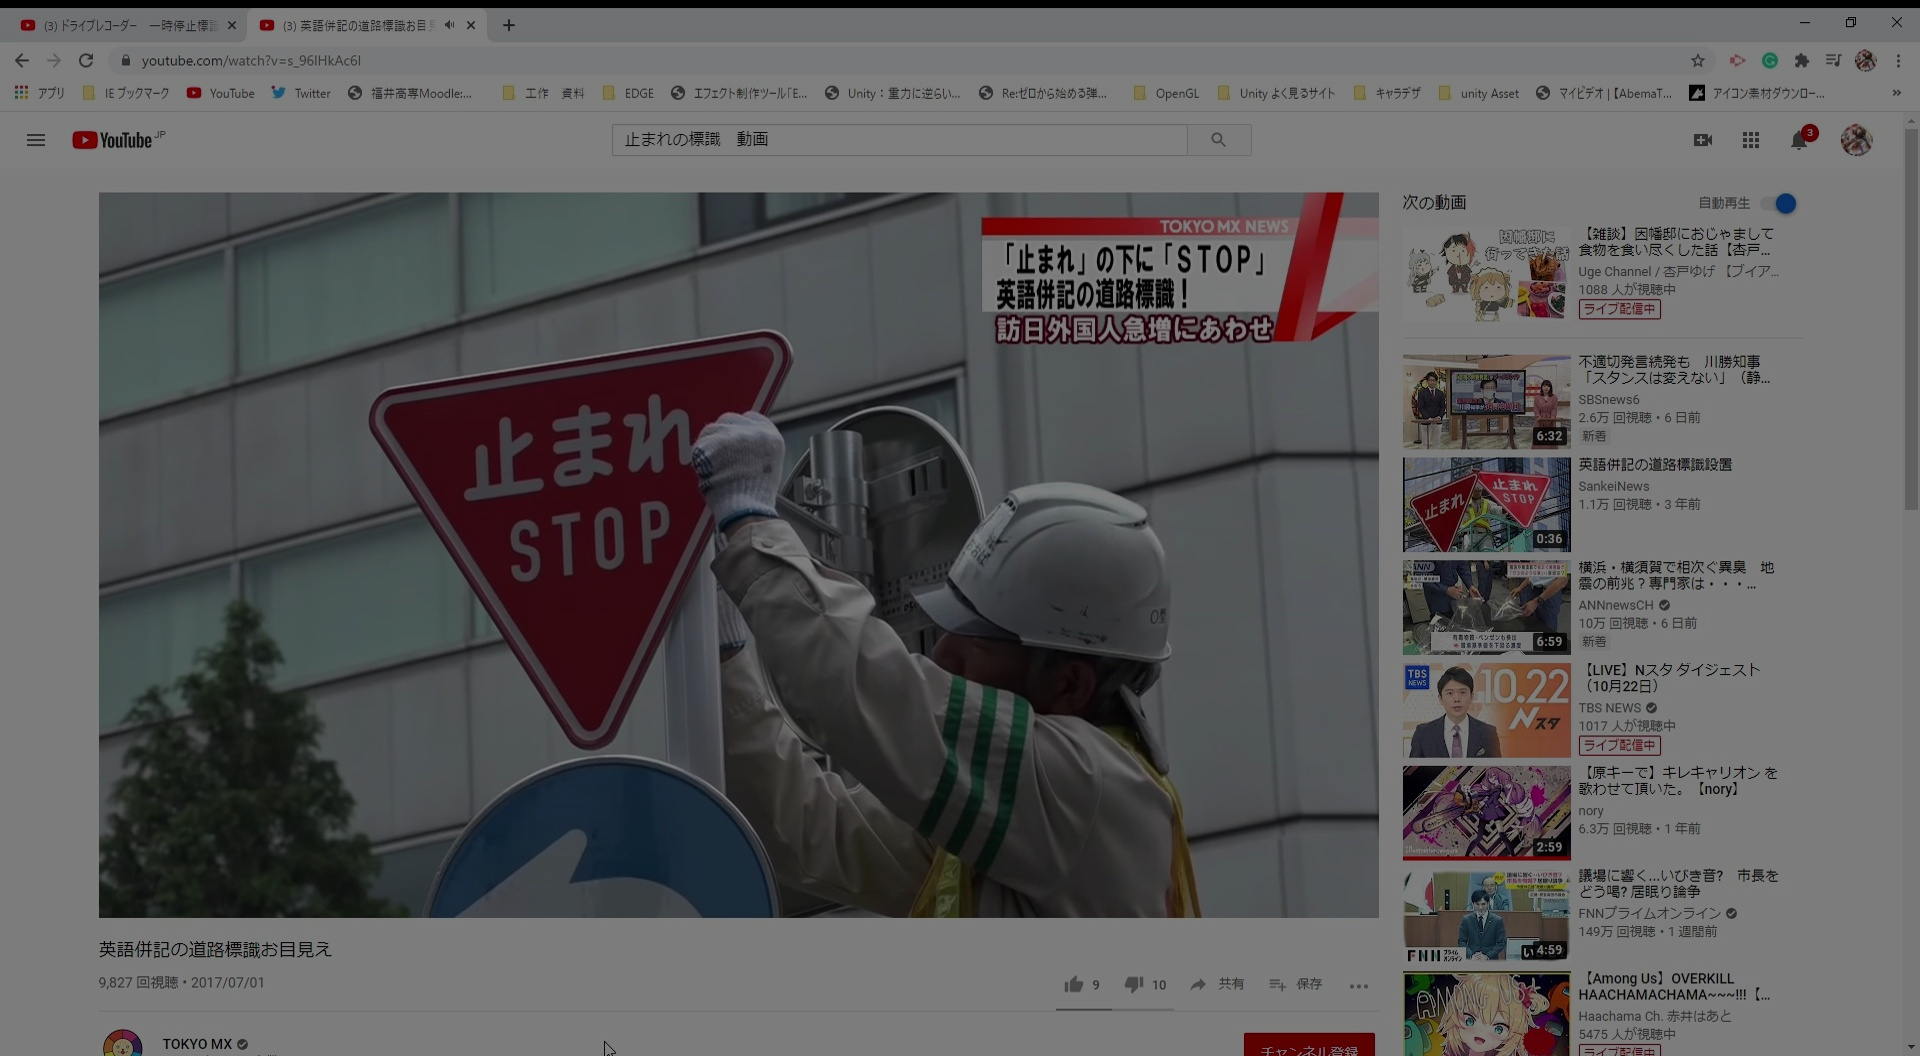Regulatory_sign_triangle: (374, 334, 799, 756)
